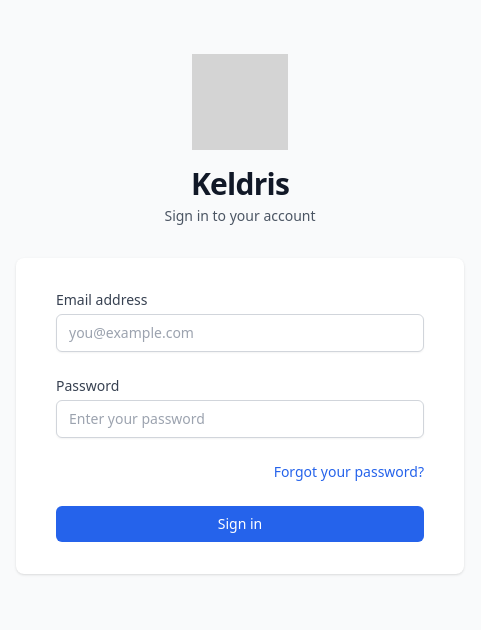
Test case: LoginPage › shows error message on invalid credentials (401)
The image size is (481, 630).
Step 1. Type "bad@test.com" into the field labelled "Email address" → {"x": 240, "y": 333}, box 56,314 -> 424,352
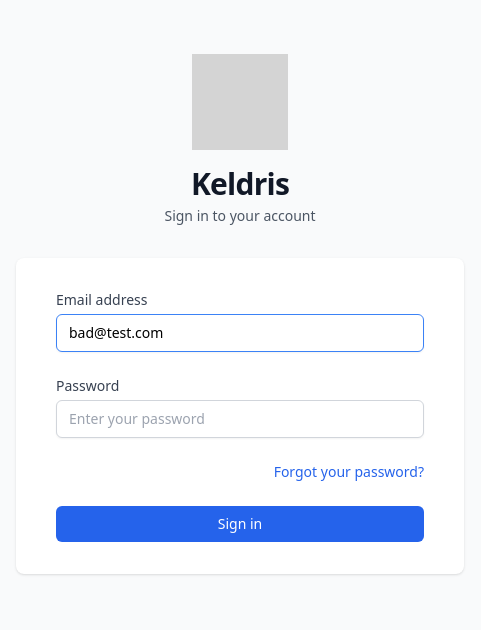
Step 2. Type "wrong" into the password field labelled "Password" → {"x": 240, "y": 419}, box 56,400 -> 424,438
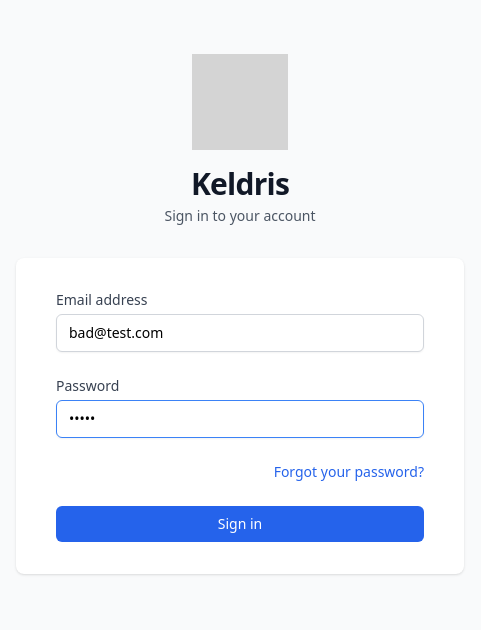
Step 3. Click the button "Sign in" → {"x": 240, "y": 524}, box 56,506 -> 424,542
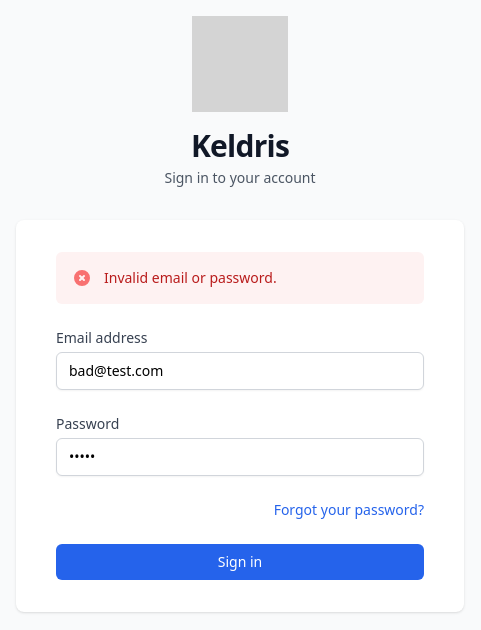
Check: the text "Invalid email or password." is shown, box 104,268 -> 277,288
